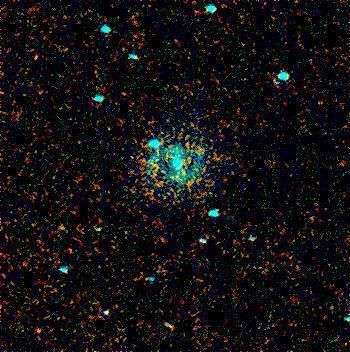star: (23, 315, 53, 345)
